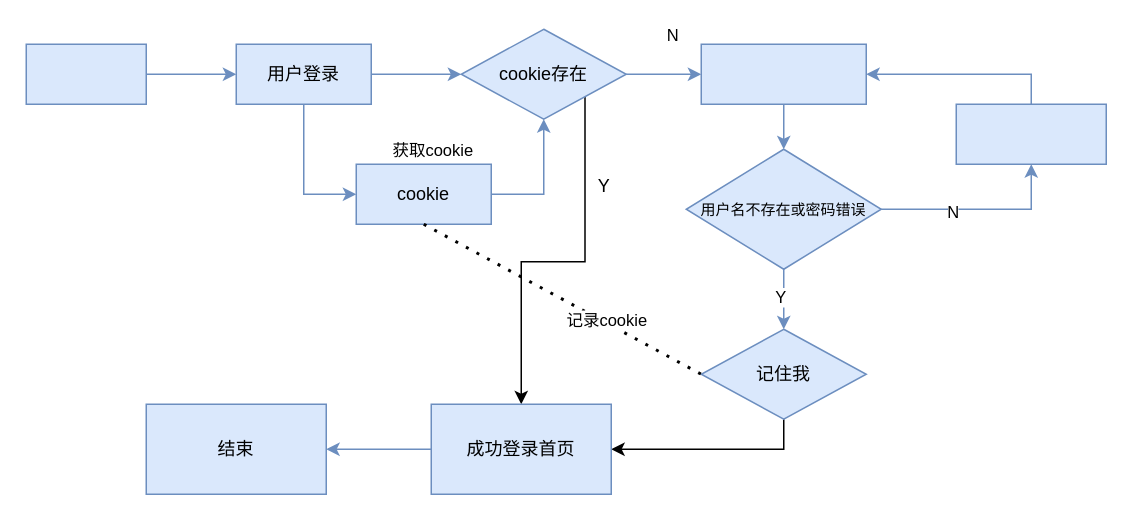
This 1133x521 diagram has some shape labels left out. The centre of each missing label's shape, as x and y in pixels:
"填写用户名与密码" goes at (x=783, y=73).
"开始" goes at (x=85, y=73).
"改为登录错误提示" goes at (x=1030, y=133).
